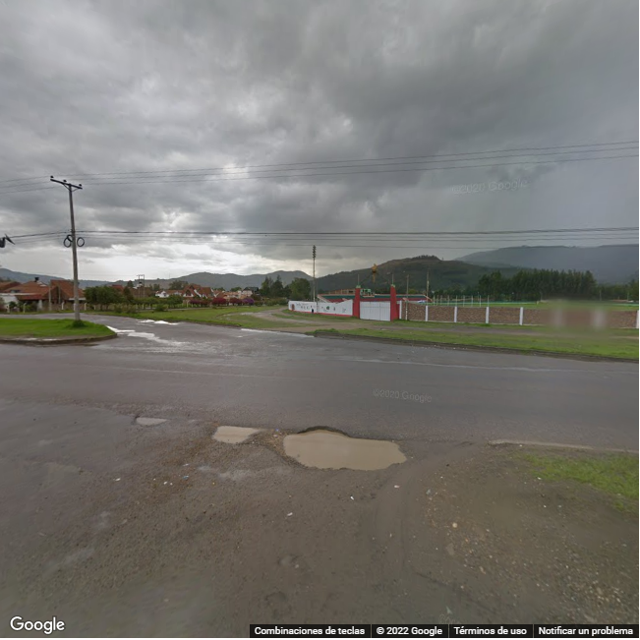D40: (279, 425, 414, 467), (210, 419, 253, 444), (130, 409, 159, 432)
